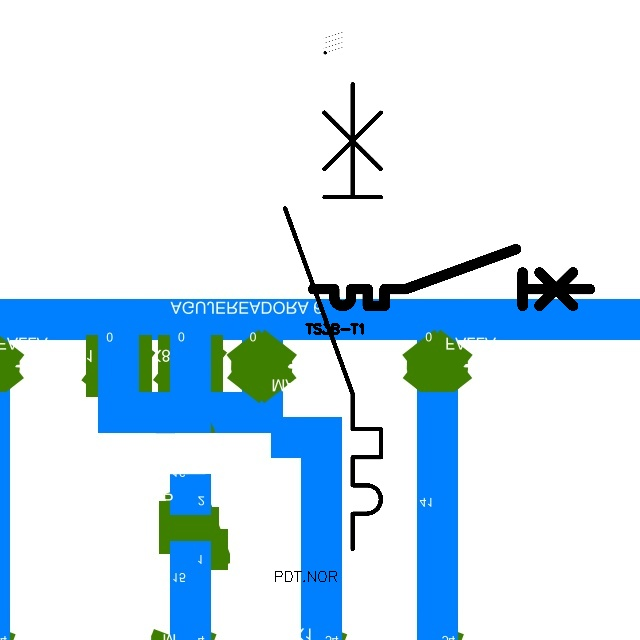interruptor_termomagnetico: (273, 72, 393, 561), (306, 242, 597, 313)
